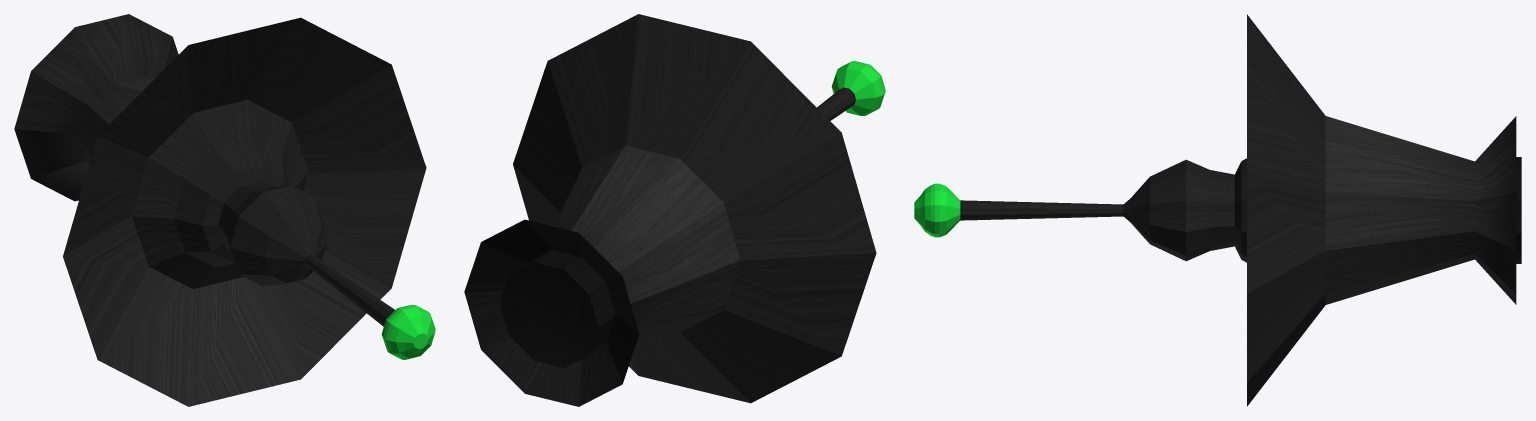
Rendered from SubBoss.fbx.
3 views of the same model, side by side, from view 1: azimuth 30°, elevation 25°; view 2: azimuth 150°, elevation 25°; view 3: azimuth 270°, elevation 25° (orthographic). The views are drawn at different scales.
Visible parts, largest first — view 1: pCylinder15; view 2: pCylinder15; view 3: pCylinder15.
Part boxes in pixels (x1=…): pCylinder15: x1=14, y1=14, x2=435, y2=406; pCylinder15: x1=464, y1=14, x2=885, y2=406; pCylinder15: x1=914, y1=14, x2=1521, y2=406.
Bounding box in the file's own units: 2.69 × 2.56 × 4.13.
2 materials, 1 textured.
